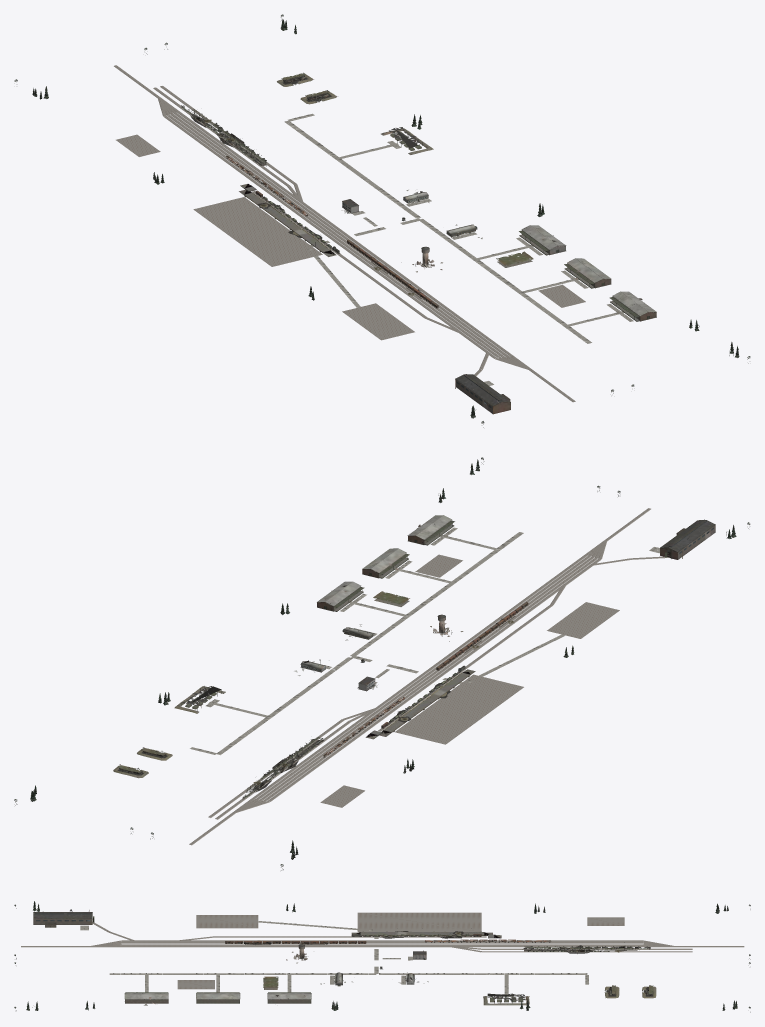
File: site_rail_w_lo.glb
3 views of the same model, one above another, from view 1: azimuth 30°, elevation 25°; view 2: azimuth 150°, elevation 25°; view 3: azimuth 270°, elevation 25° (orthographic). The views are drawn at different scales.
Visible parts, largest first — view 1: deco|tile_gravel, deco|tile_conc, b_depot|F_A, b_ramp|F_A, b_store3|F_A, b_store2|F_A, b_store1|F_A, deco|F_A; view 2: deco|tile_gravel, deco|tile_conc, b_depot|F_A, b_ramp|F_A, b_store1|F_A, b_store2|F_A, b_store3|F_A, deco|F_A, deco_trees|F_A; view 3: deco|tile_gravel, deco|tile_conc, b_depot|F_A, deco|F_A, b_store1|F_A, b_store2|F_A, b_store3|F_A, b_ramp|F_A, deco_trees|F_A, b_boxtrain|F_A, b_store4|F_A, b_tanktrain|F_A (+6 smaller).
Part boxes in pixels (left/top/right/bottom): deco|tile_gravel: left=114, top=65, right=585, bottom=402; deco|tile_conc: left=284, top=113, right=633, bottom=385; b_depot|F_A: left=455, top=374, right=510, bottom=414; b_ramp|F_A: left=239, top=184, right=336, bottom=256; b_store3|F_A: left=609, top=291, right=656, bottom=321; b_store2|F_A: left=564, top=258, right=611, bottom=288; b_store1|F_A: left=519, top=225, right=566, bottom=255; deco|F_A: left=14, top=14, right=750, bottom=427; deco|tile_gravel: left=189, top=508, right=669, bottom=845; deco|tile_conc: left=190, top=527, right=659, bottom=754; b_depot|F_A: left=660, top=519, right=715, bottom=559; b_ramp|F_A: left=365, top=669, right=475, bottom=739; b_store1|F_A: left=317, top=581, right=364, bottom=611; b_store2|F_A: left=362, top=548, right=409, bottom=578; b_store3|F_A: left=407, top=515, right=454, bottom=545; deco|F_A: left=14, top=457, right=750, bottom=870; deco_trees|F_A: left=30, top=459, right=736, bottom=859; deco|tile_gravel: left=21, top=912, right=744, bottom=989; deco|tile_conc: left=80, top=921, right=588, bottom=997; b_depot|F_A: left=33, top=910, right=94, bottom=927; deco|F_A: left=14, top=904, right=750, bottom=1012; b_store1|F_A: left=267, top=992, right=311, bottom=1003; b_store2|F_A: left=196, top=992, right=240, bottom=1003; b_store3|F_A: left=124, top=992, right=168, bottom=1003; b_ramp|F_A: left=351, top=931, right=501, bottom=938; deco_trees|F_A: left=26, top=901, right=737, bottom=1010; b_boxtrain|F_A: left=225, top=941, right=366, bottom=943; b_store4|F_A: left=483, top=993, right=529, bottom=1005; b_tanktrain|F_A: left=523, top=946, right=650, bottom=951.
Size of the model in its own units: 394 by 29.67 by 1188.
Materials: 59 (36 with a texture image).
